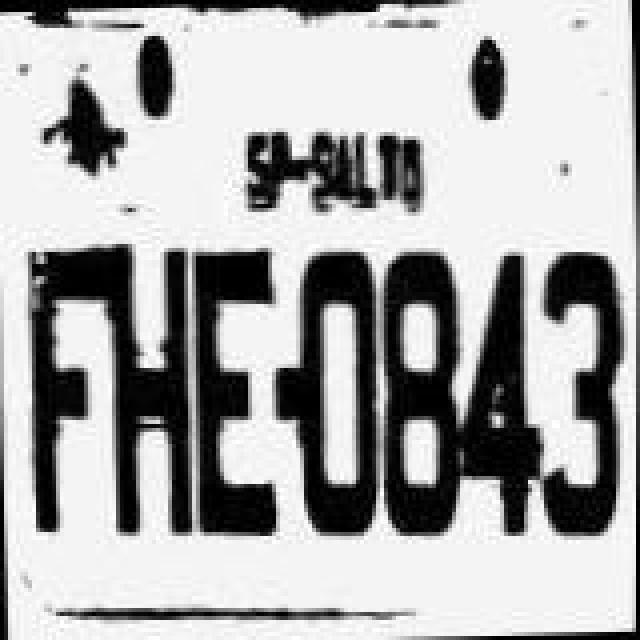3: (532, 244, 628, 536)
4: (448, 248, 544, 540)
8: (370, 242, 462, 534)
E: (184, 242, 288, 538)
F: (24, 232, 120, 536)
H: (98, 238, 198, 542)
O: (288, 244, 384, 540)
